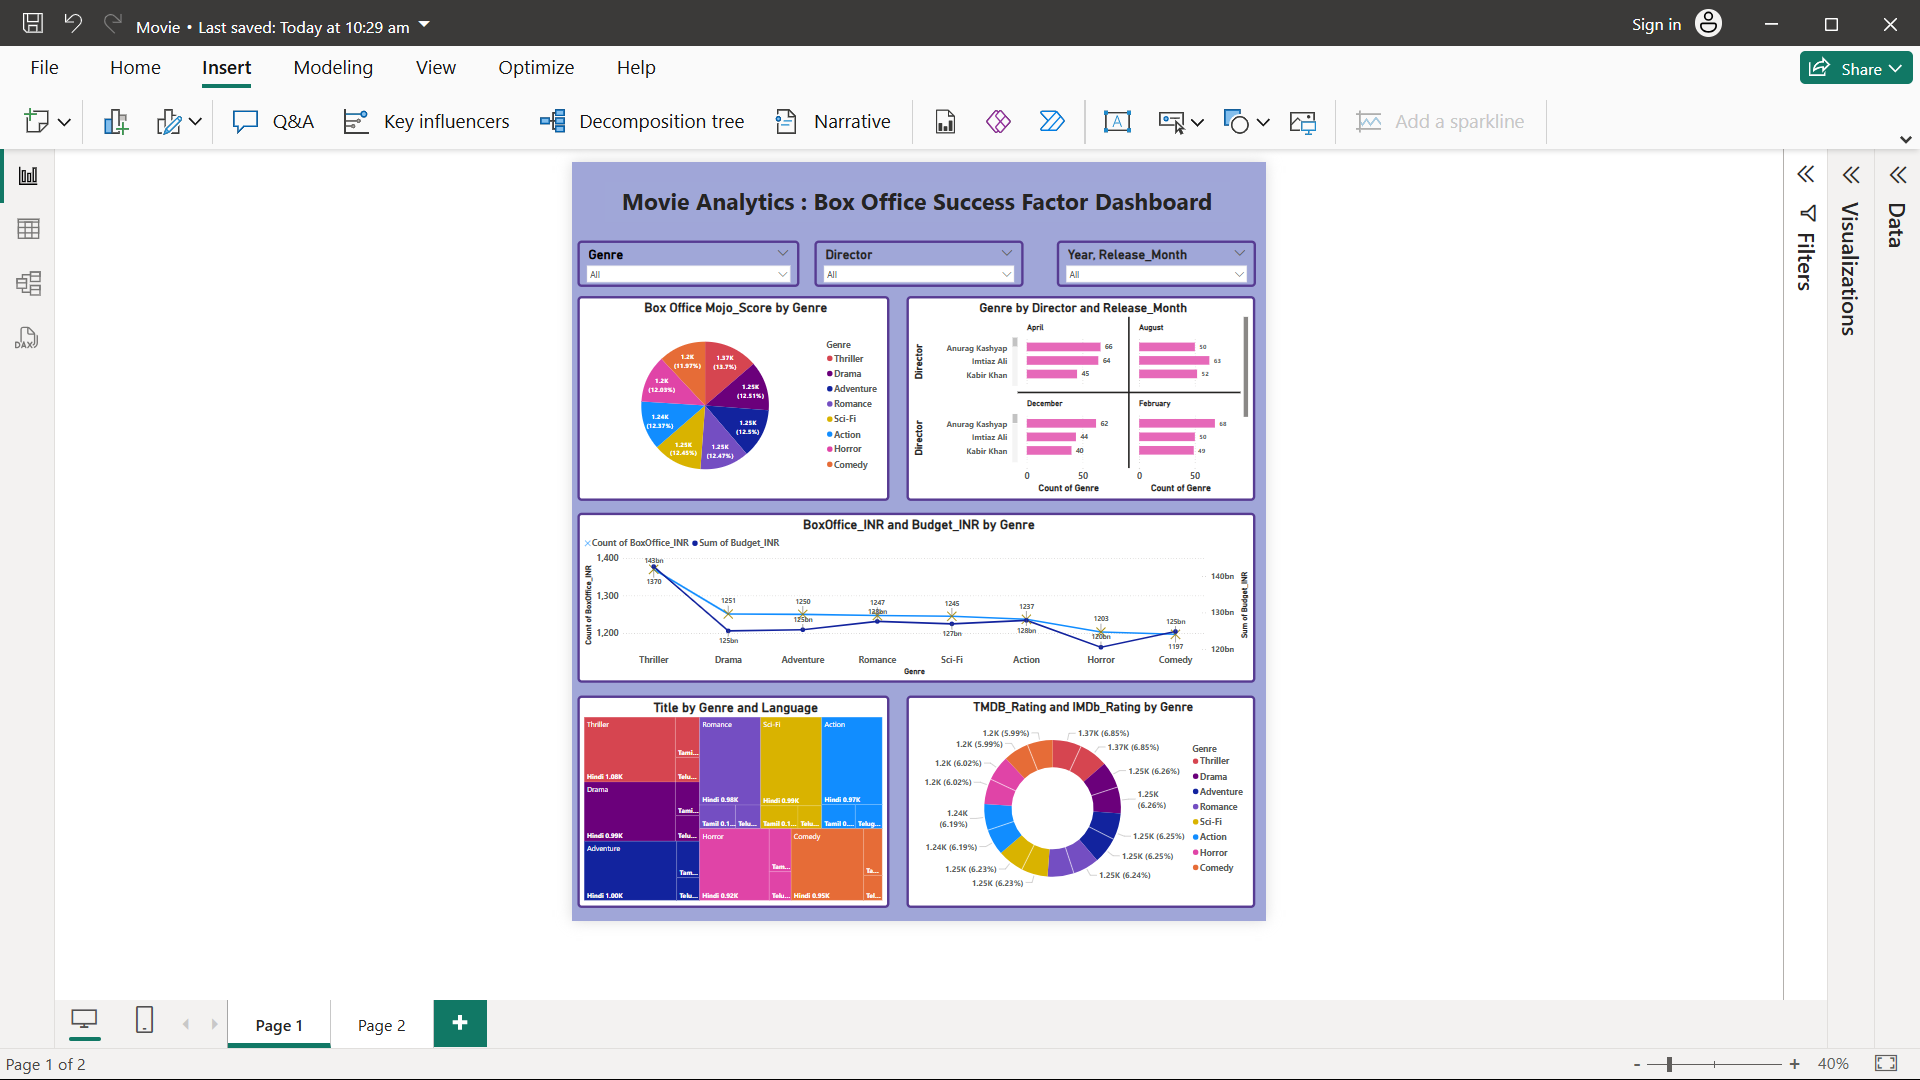

This screenshot's page, from the dashboard's own definition file:
{"tool":"powerbi","page":{"name":"Page 1","canvas":[1280,1400],"ordinal":0},"visuals":[{"type":"lineChart","title":" BoxOffice_INR and  Budget_INR by Genre","fields":{"Category":["bollywood_movie_analytics.Genre"],"Y":["bollywood_movie_analytics.BoxOffice_INR"],"Y2":["bollywood_movie_analytics.Budget_INR"]},"box":[10,648,1252,314],"z":0},{"type":"pieChart","title":" Box Office Mojo_Score by Genre","fields":{"Category":["bollywood_movie_analytics.Genre"],"Y":["bollywood_movie_analytics.BoxOfficeMojo_Score"]},"box":[10,248,576,378],"z":1000},{"type":"treemap","title":"Title by Genre and Language","fields":{"Group":["bollywood_movie_analytics.Genre"],"Values":["bollywood_movie_analytics.Title"],"Details":["bollywood_movie_analytics.Language"]},"box":[10,986,576,392],"z":2000},{"type":"barChart","title":" Genre by Director and Release_Month","fields":{"Rows":["bollywood_movie_analytics.Release_Month"],"Category":["bollywood_movie_analytics.Director"],"Y":["bollywood_movie_analytics.Genre"]},"box":[618,248,644,378],"z":3000},{"type":"donutChart","title":"TMDB_Rating and  IMDb_Rating by Genre","fields":{"Category":["bollywood_movie_analytics.Genre"],"Y":["bollywood_movie_analytics.TMDB_Rating","bollywood_movie_analytics.IMDb_Rating"]},"box":[618,986,644,392],"z":4000},{"type":"slicer","fields":{"Values":["bollywood_movie_analytics.Genre"]},"box":[10,144,410,86],"z":5000},{"type":"slicer","fields":{"Values":["bollywood_movie_analytics.Director"]},"box":[448,144,386,86],"z":6000},{"type":"slicer","fields":{"Values":["bollywood_movie_analytics.Year","bollywood_movie_analytics.Release_Month"]},"box":[894,144,368,86],"z":7000},{"type":"textbox","box":[60,38,1154,74],"z":7001}]}

Visuals, with their boxes on the page's 1280x1400 design canvas (x1, y1, x2, y2). These are canvas units, not pixel positions in the 1920x1080 screenshot, which may show the page scaled, cropped or inside an application window:
" BoxOffice_INR and  Budget_INR by Genre" lineChart: [x1=10, y1=648, x2=1262, y2=962]
" Box Office Mojo_Score by Genre" pieChart: [x1=10, y1=248, x2=586, y2=626]
"Title by Genre and Language" treemap: [x1=10, y1=986, x2=586, y2=1378]
" Genre by Director and Release_Month" barChart: [x1=618, y1=248, x2=1262, y2=626]
"TMDB_Rating and  IMDb_Rating by Genre" donutChart: [x1=618, y1=986, x2=1262, y2=1378]
slicer - bollywood_movie_analytics.Genre: [x1=10, y1=144, x2=420, y2=230]
slicer - bollywood_movie_analytics.Director: [x1=448, y1=144, x2=834, y2=230]
slicer - bollywood_movie_analytics.Year x bollywood_movie_analytics.Release_Month: [x1=894, y1=144, x2=1262, y2=230]
textbox: [x1=60, y1=38, x2=1214, y2=112]
